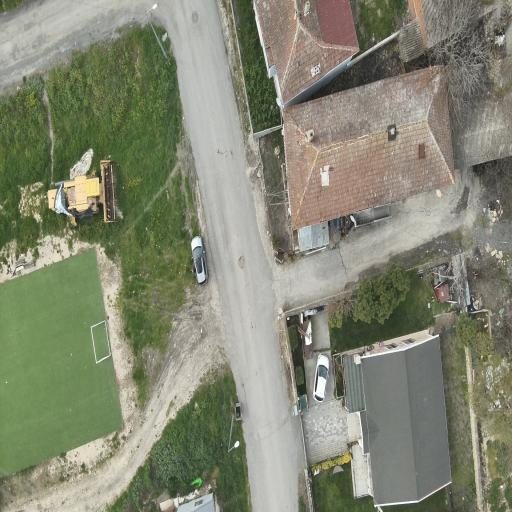car: (191, 236, 208, 286), (313, 354, 329, 402), (304, 306, 324, 317)
harvester: (48, 161, 116, 225)
